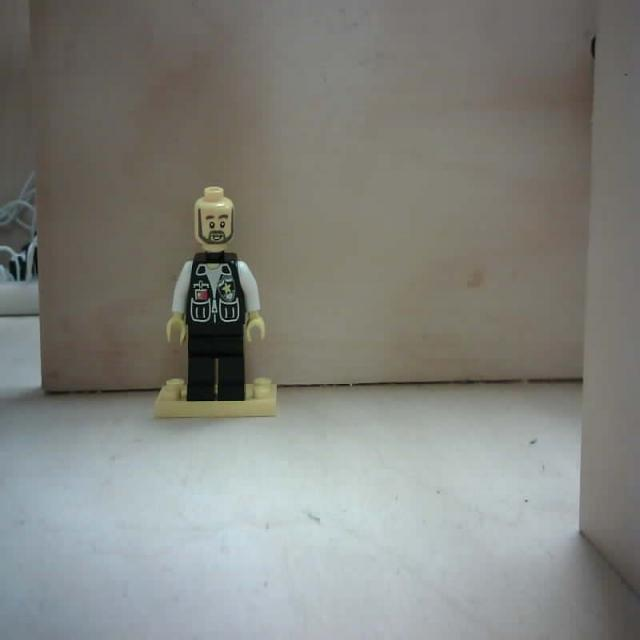Lego-People: (149, 178, 283, 430)
